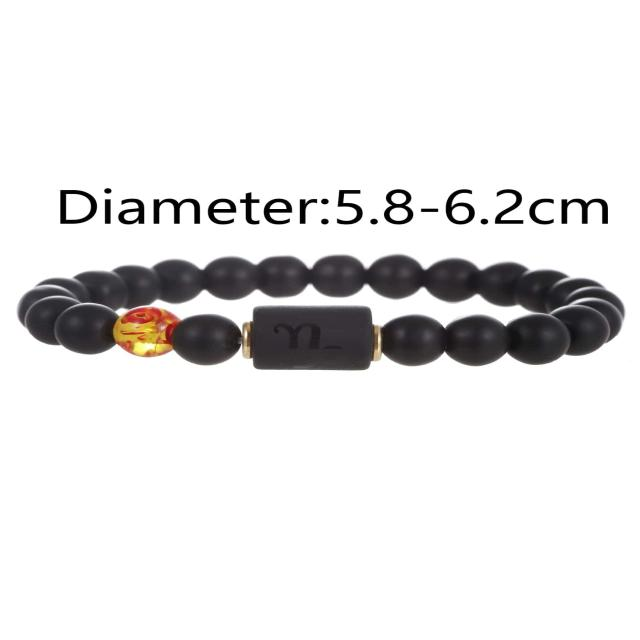bracelet: (22, 215, 640, 409)
